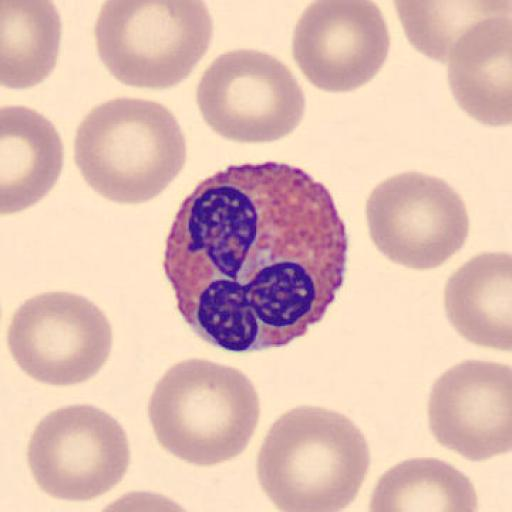RBC: (71, 93, 189, 206), (254, 402, 373, 512), (146, 356, 262, 468), (194, 45, 308, 147), (93, 0, 216, 92), (364, 168, 472, 272), (24, 402, 132, 504), (6, 288, 115, 389), (291, 0, 392, 96), (425, 356, 512, 462), (390, 1, 512, 64), (445, 14, 512, 128), (441, 249, 512, 352), (2, 103, 66, 216), (367, 454, 479, 512), (1, 0, 64, 92), (86, 488, 208, 512)
WBC: (162, 159, 351, 354)
